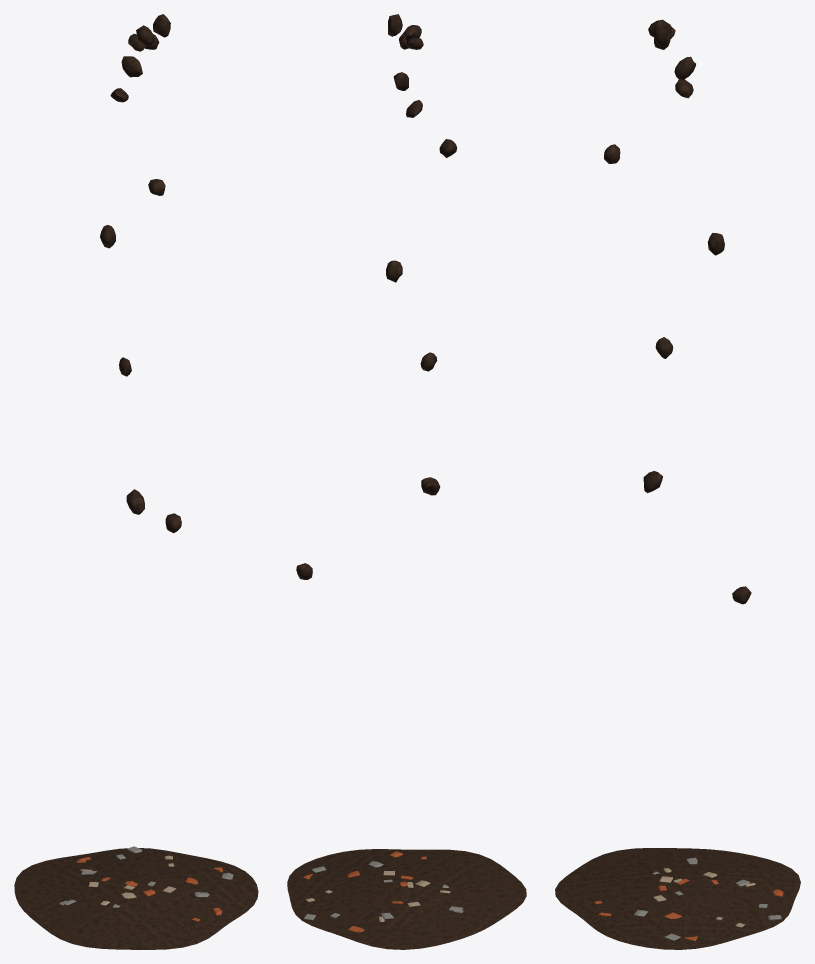
Rendered from TER-SOL-005_anim.glb.
3 renders of one model, left to right at view 1: azimuth 30°, elevation 25°; view 2: azimuth 150°, elevation 25°; view 3: azimuth 270°, elevation 25°, orthographic.
Visible parts, largest first — view 1: TER-SOL-005_anim_monte; view 2: TER-SOL-005_anim_monte; view 3: TER-SOL-005_anim_monte.
Boxes of the visible parts, x1,y1,x2,y2 form: TER-SOL-005_anim_monte: (14,846,258,949); TER-SOL-005_anim_monte: (287,849,526,949); TER-SOL-005_anim_monte: (555,848,800,949).
Bounding box in the file's own units: 0.436 × 1.76 × 0.4438.
4 materials, 3 textured.
